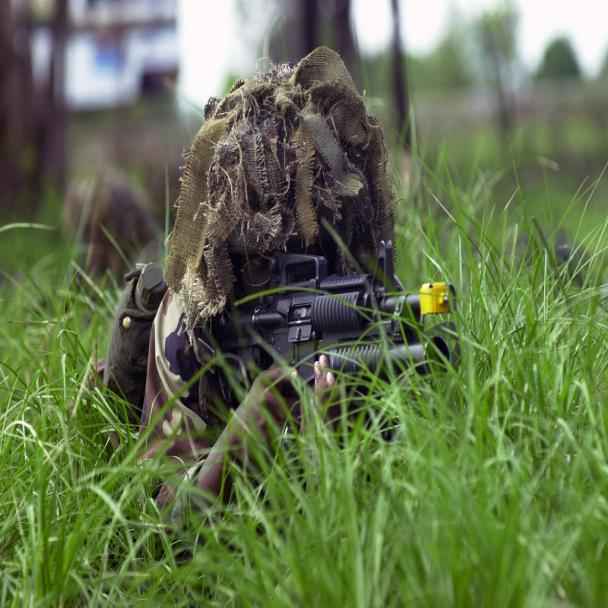Gun: (230, 247, 490, 385)
